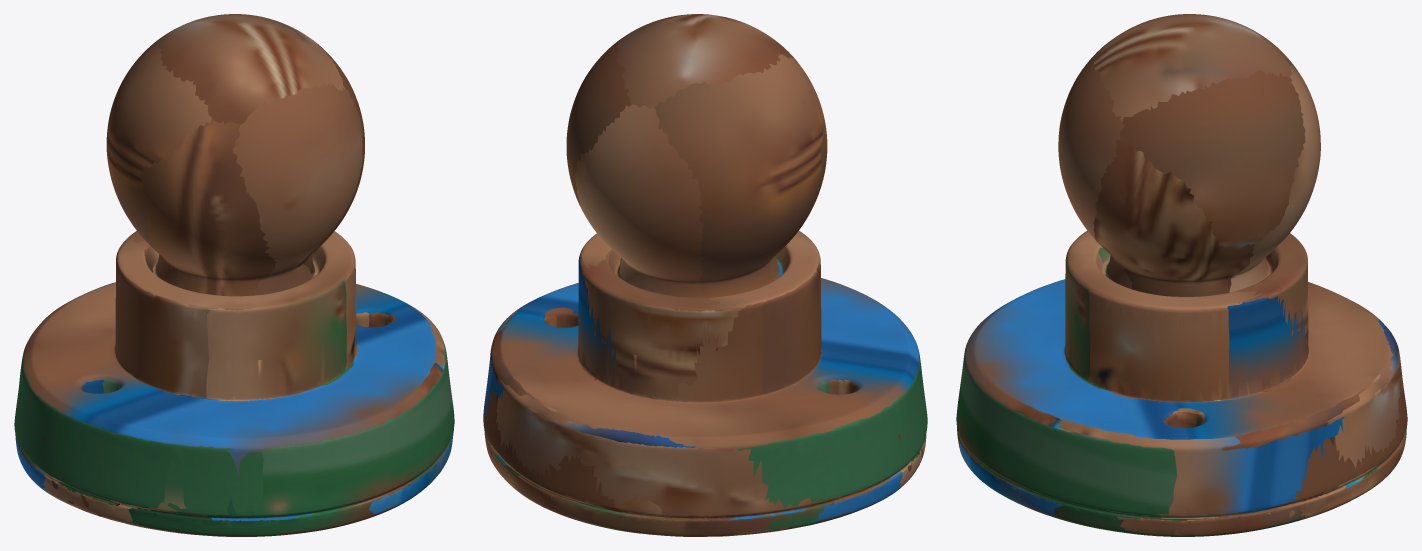
Rendered from blue.obj.
3 renders of one model, left to right at view 1: azimuth 30°, elevation 25°; view 2: azimuth 150°, elevation 25°; view 3: azimuth 270°, elevation 25°, orthographic.
Visible parts, largest first — view 1: node_0.003; view 2: node_0.003; view 3: node_0.003.
Part boxes in pixels (x1,y1,x2,y2): node_0.003: [14, 14, 454, 536]; node_0.003: [483, 14, 927, 536]; node_0.003: [956, 14, 1407, 536].
Size of the model in its own units: 0.2034 by 0.2094 by 0.2033.
